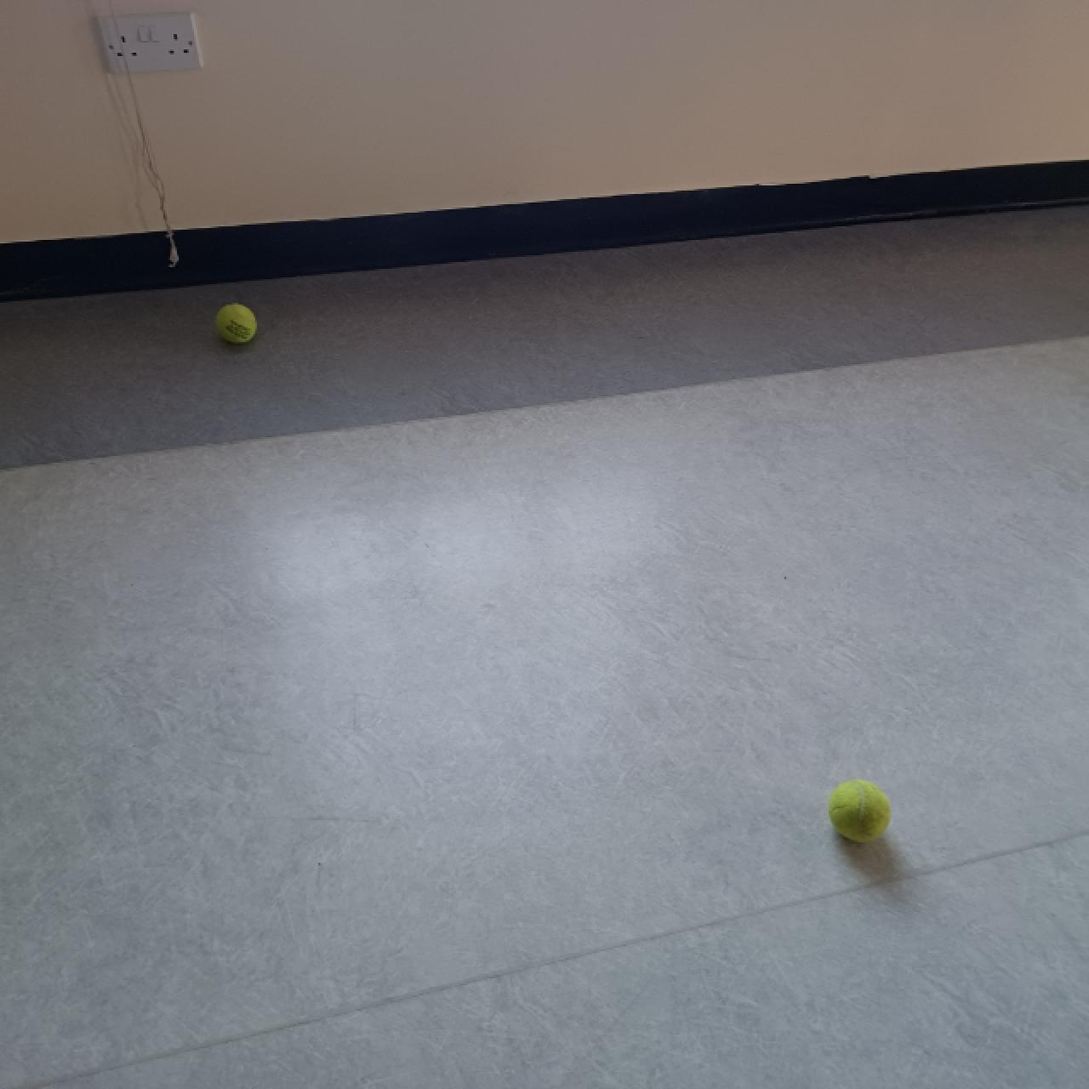tennis-ball: (826, 780, 893, 847), (215, 301, 258, 347)
